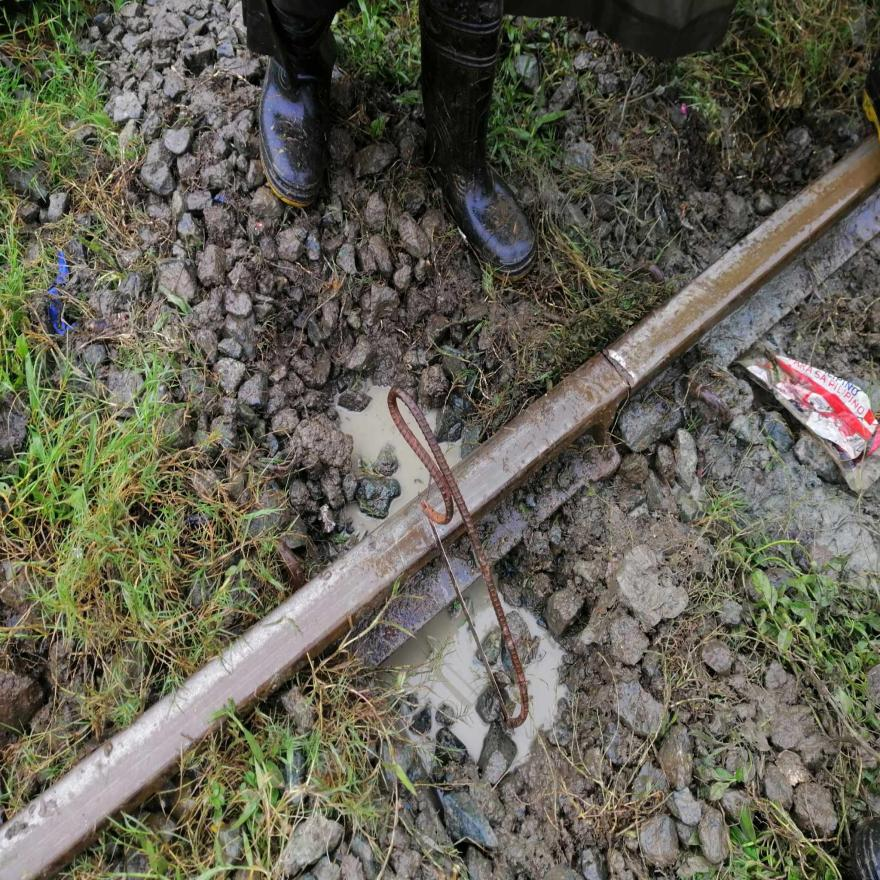railway-gap: (578, 328, 657, 494)
